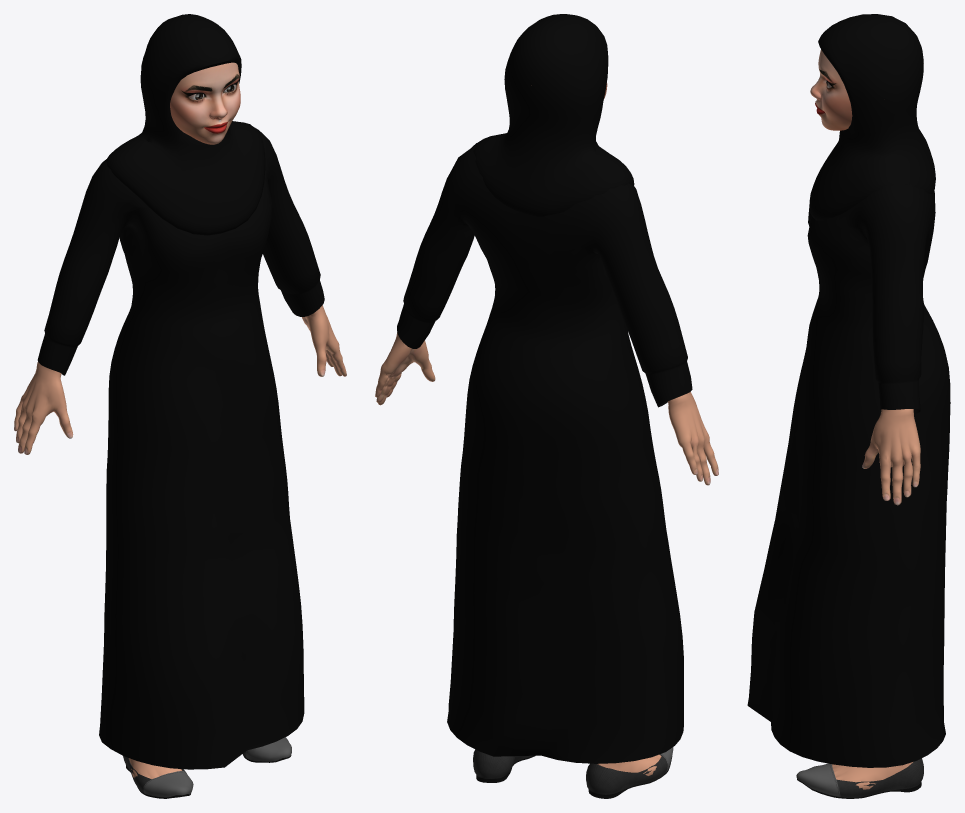
The model's file is latifa-3d.glb.
The picture shows the model from 3 angles, left to right: view 1: azimuth 30°, elevation 25°; view 2: azimuth 150°, elevation 25°; view 3: azimuth 270°, elevation 25°; orthographic projection. The views are drawn at different scales.
Parts seen in each view (by area): view 1: character; view 2: character; view 3: character.
Part boxes in pixels (x1,y1,x2,y2): character: [14, 14, 346, 798]; character: [375, 14, 718, 798]; character: [747, 14, 950, 798].
Size of the model in its own units: 0.4595 by 1 by 0.2472.
6 materials, 4 textured.
